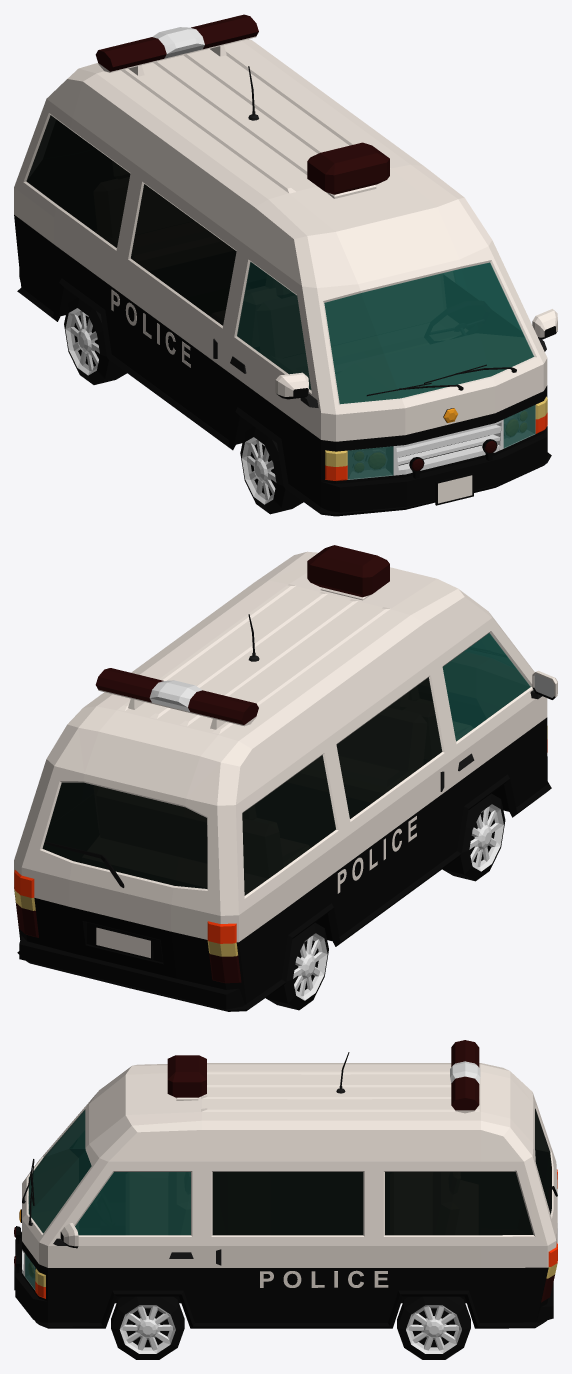
The model's file is PoliceVan_06.FBX.
3 renders of one model, top to bottom at view 1: azimuth 30°, elevation 25°; view 2: azimuth 150°, elevation 25°; view 3: azimuth 270°, elevation 25°, orthographic. The views are drawn at different scales.
Parts seen in each view (by area): view 1: PoliceVan_06, interior, seats_f, signalLights_01, wheel_f_r, wheel_b_r, lights, signalLights_02, seats_m, headLights, mirror_r, licensePlate_f (+2 smaller); view 2: PoliceVan_06, interior, signalLights_01, wheel_f_r, wheel_b_r, lights, signalLights_02, tailLights, licensePlate_b, backupLights, mirror_r, indicatorLights_r; view 3: PoliceVan_06, interior, seats_f, wheel_f_l, wheel_b_l, signalLights_01, lights, signalLights_02, mirror_l.
Part boxes in pixels (box(x1,y1,x2,y2)): PoliceVan_06: box(14, 39, 551, 516); interior: box(237, 262, 533, 403); seats_f: box(257, 274, 467, 389); signalLights_01: box(191, 14, 423, 471); wheel_f_r: box(240, 426, 303, 514); wheel_b_r: box(64, 297, 126, 384); lights: box(98, 27, 497, 478); signalLights_02: box(95, 37, 496, 453); seats_m: box(237, 275, 278, 352); headLights: box(325, 396, 547, 471); mirror_r: box(275, 372, 318, 407); licensePlate_f: box(435, 473, 473, 505); PoliceVan_06: box(14, 551, 551, 1011); interior: box(443, 633, 530, 740); signalLights_01: box(95, 545, 389, 702); wheel_f_r: box(442, 793, 505, 881); wheel_b_r: box(266, 922, 328, 1010); lights: box(98, 587, 376, 729); signalLights_02: box(188, 690, 258, 724); tailLights: box(16, 903, 241, 983); licensePlate_b: box(94, 926, 153, 959); backupLights: box(14, 890, 237, 956); mirror_r: box(530, 670, 557, 699); indicatorLights_r: box(207, 739, 547, 943); PoliceVan_06: box(15, 1063, 557, 1328); interior: box(29, 1111, 190, 1234); seats_f: box(126, 1172, 190, 1234); wheel_f_l: box(111, 1296, 184, 1359); wheel_b_l: box(397, 1296, 470, 1359); signalLights_01: box(14, 1055, 479, 1237); lights: box(16, 1061, 480, 1273); signalLights_02: box(14, 1040, 479, 1266); mirror_l: box(53, 1223, 78, 1248).
Size of the model in its own units: 27.87 by 57.74 by 30.98.
